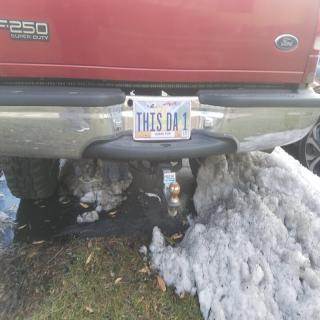license: (134, 100, 193, 143)
